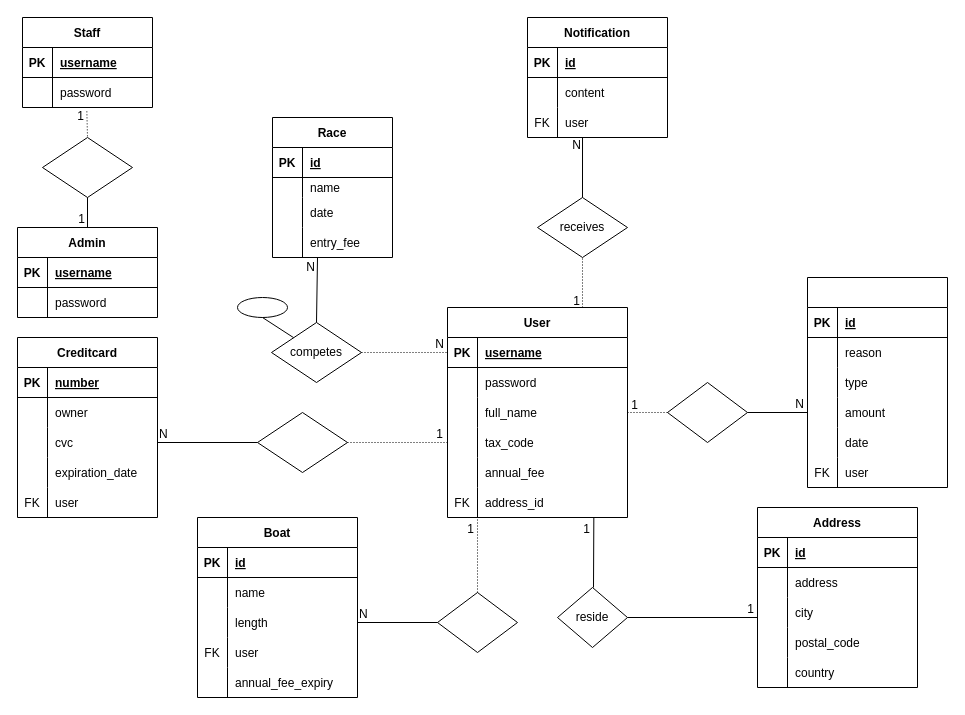
The diagram is 965 pixels wide and 715 high, and some of its shapes have lost their labels. Here are the shapes that lost their labels. From the top down, the box of each, then its label:
(42, 136, 132, 198): extend
(236, 296, 288, 318): boat_id
(806, 276, 948, 488): Payment
(666, 382, 748, 442): makes
(256, 412, 348, 472): uses
(436, 592, 518, 652): owns
